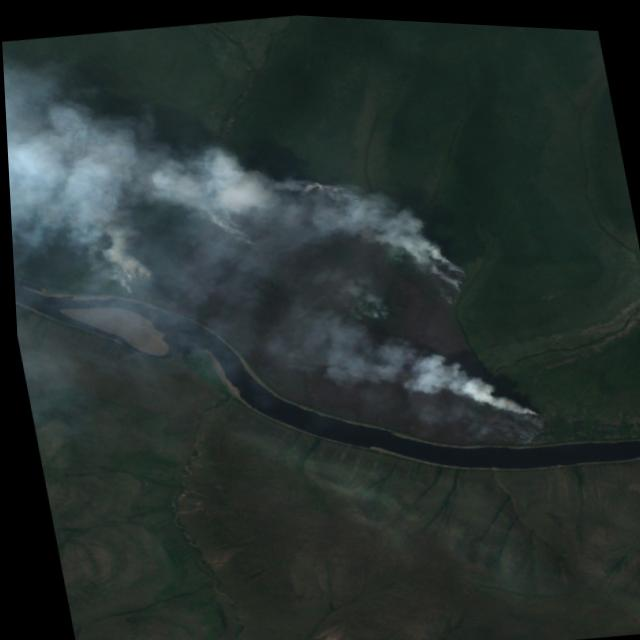fire: (81, 128, 564, 498)
